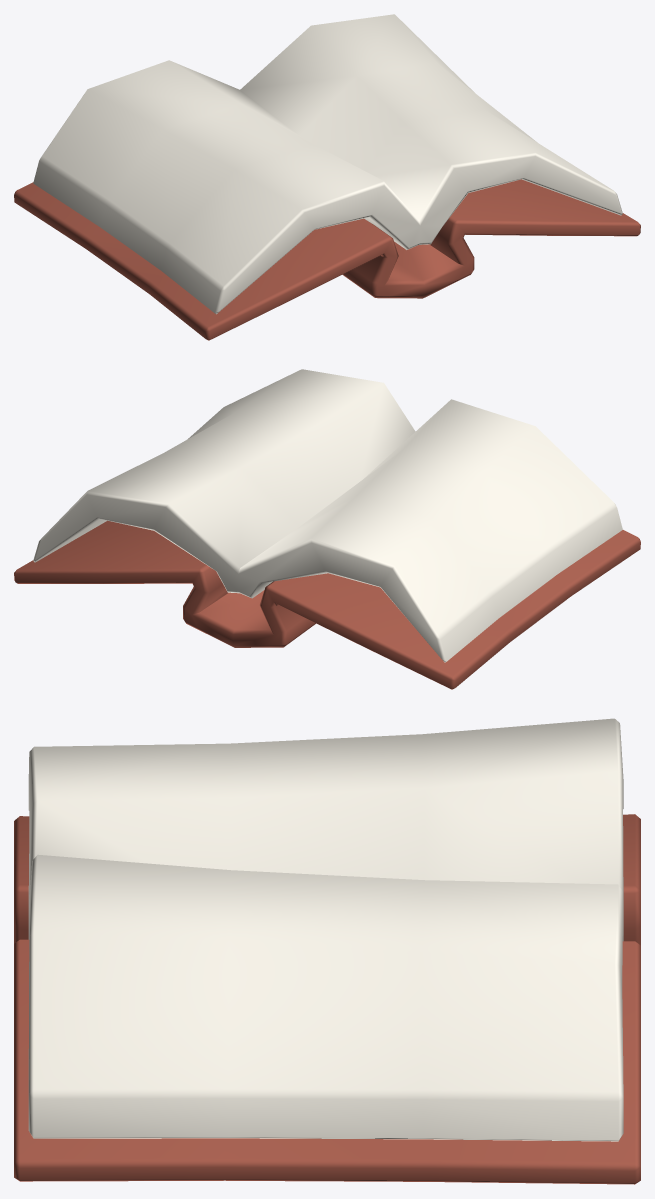
File: props_openBook.fbx
3 renders of one model, top to bottom at view 1: azimuth 30°, elevation 25°; view 2: azimuth 150°, elevation 25°; view 3: azimuth 270°, elevation 25°, orthographic. The views are drawn at different scales.
Visible parts, largest first — view 1: Open_book; view 2: Open_book; view 3: Open_book.
Boxes of the visible parts, bbox=[...] form: Open_book: bbox=[14, 14, 640, 340]; Open_book: bbox=[14, 369, 640, 689]; Open_book: bbox=[14, 718, 640, 1184].
Size of the model in its own units: 98.04 by 26.54 by 73.66.
